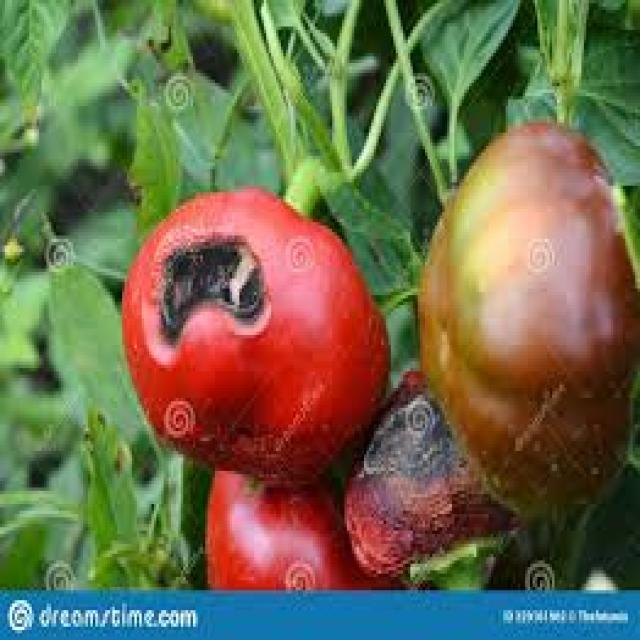Wet Waste: (114, 186, 389, 488)
